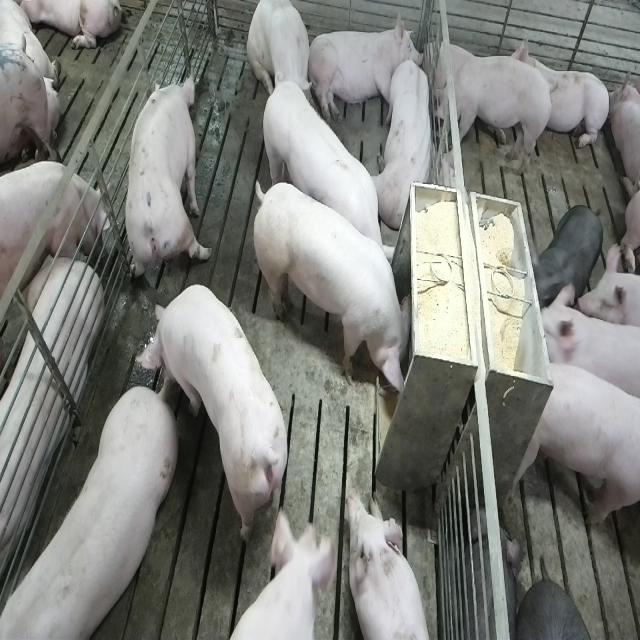Feeding: (256, 175, 420, 402)
Lateral_lying: (0, 238, 102, 592), (306, 14, 425, 127)
Sitting: (374, 58, 436, 226), (247, 1, 316, 114)
Standing: (0, 383, 175, 639), (133, 286, 285, 546), (258, 77, 390, 278), (507, 358, 638, 536), (124, 69, 209, 295), (430, 52, 555, 182), (0, 161, 106, 306), (534, 288, 637, 408)
Sternal_lying: (348, 486, 433, 640), (514, 31, 610, 153)
